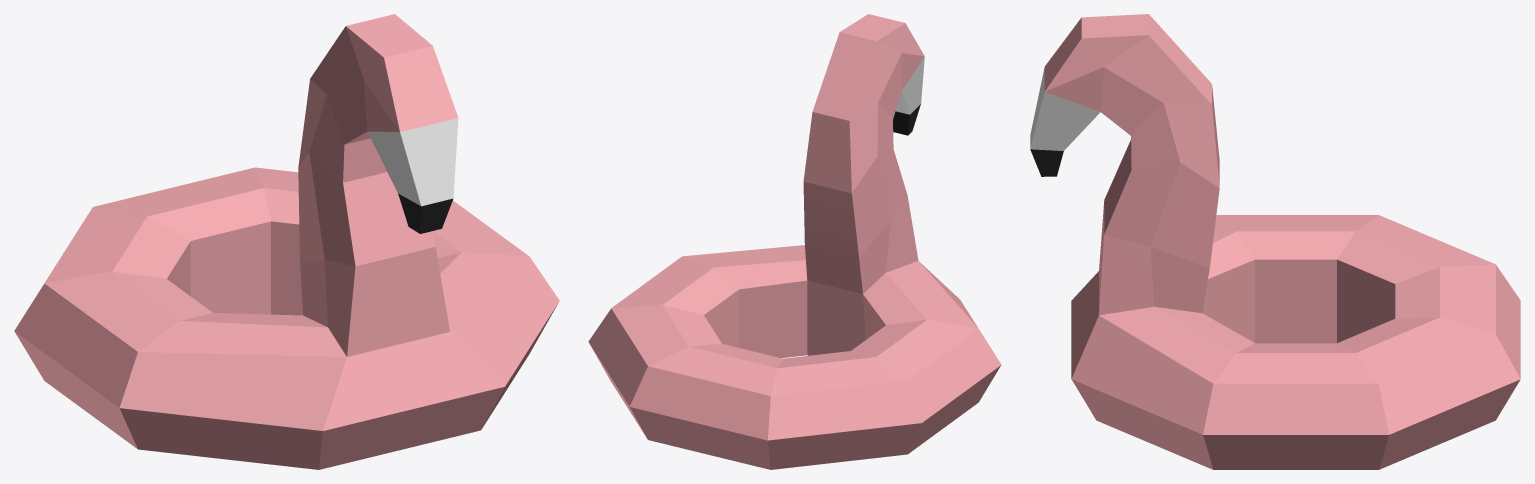
Rendered from beach_inflatable-flamingo-small.fbx.
3 views of the same model, side by side, from view 1: azimuth 30°, elevation 25°; view 2: azimuth 150°, elevation 25°; view 3: azimuth 270°, elevation 25° (orthographic). The views are drawn at different scales.
Visible parts, largest first — view 1: beach_inflatable_flamingo_small; view 2: beach_inflatable_flamingo_small; view 3: beach_inflatable_flamingo_small.
Part boxes in pixels (x1,y1,x2,y2): beach_inflatable_flamingo_small: (14,14,559,469); beach_inflatable_flamingo_small: (588,14,1001,469); beach_inflatable_flamingo_small: (1030,14,1520,469).
Size of the model in its own units: 183 by 168 by 200.
